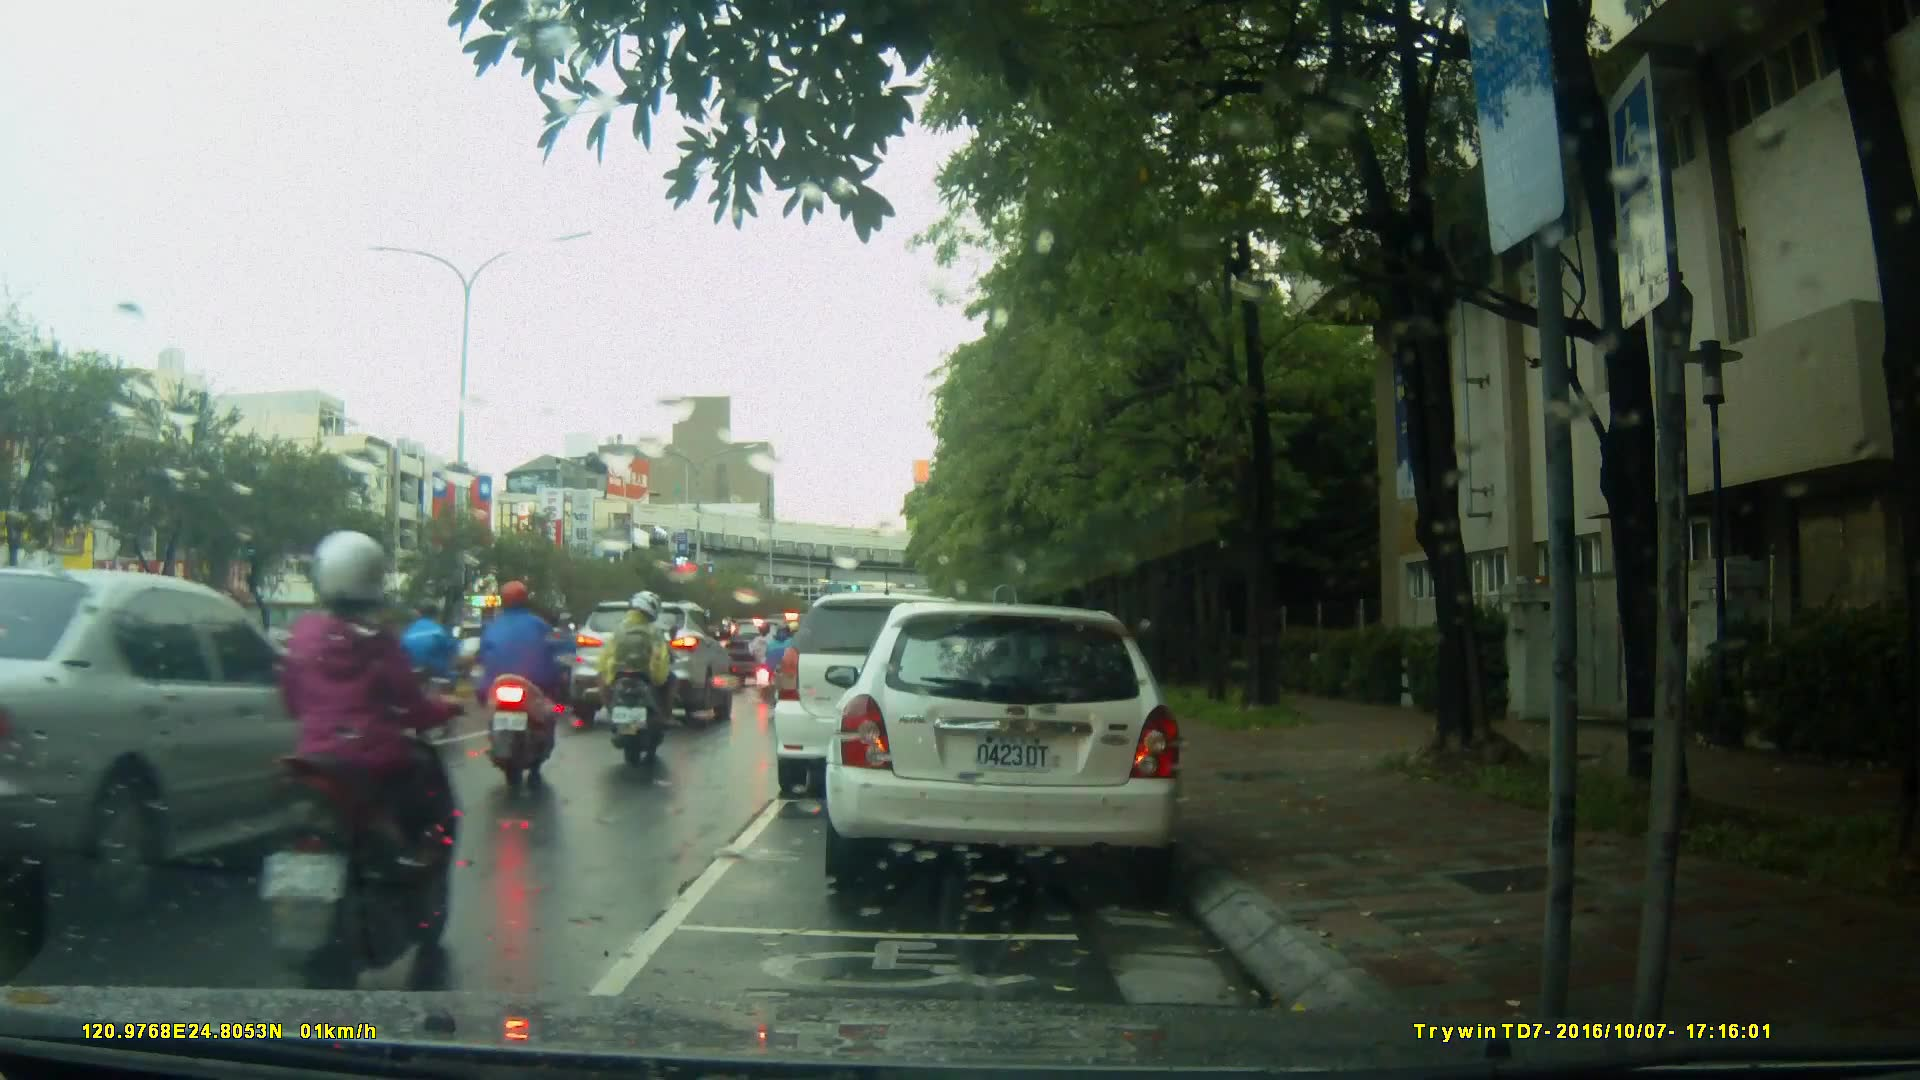rider: (251, 528, 466, 982), (487, 577, 569, 783), (597, 592, 678, 771), (401, 598, 472, 731), (537, 607, 592, 701), (757, 617, 811, 705), (753, 621, 787, 703)
vehicle: (1, 567, 400, 933), (822, 604, 1188, 883), (774, 595, 995, 802), (567, 600, 734, 727)
